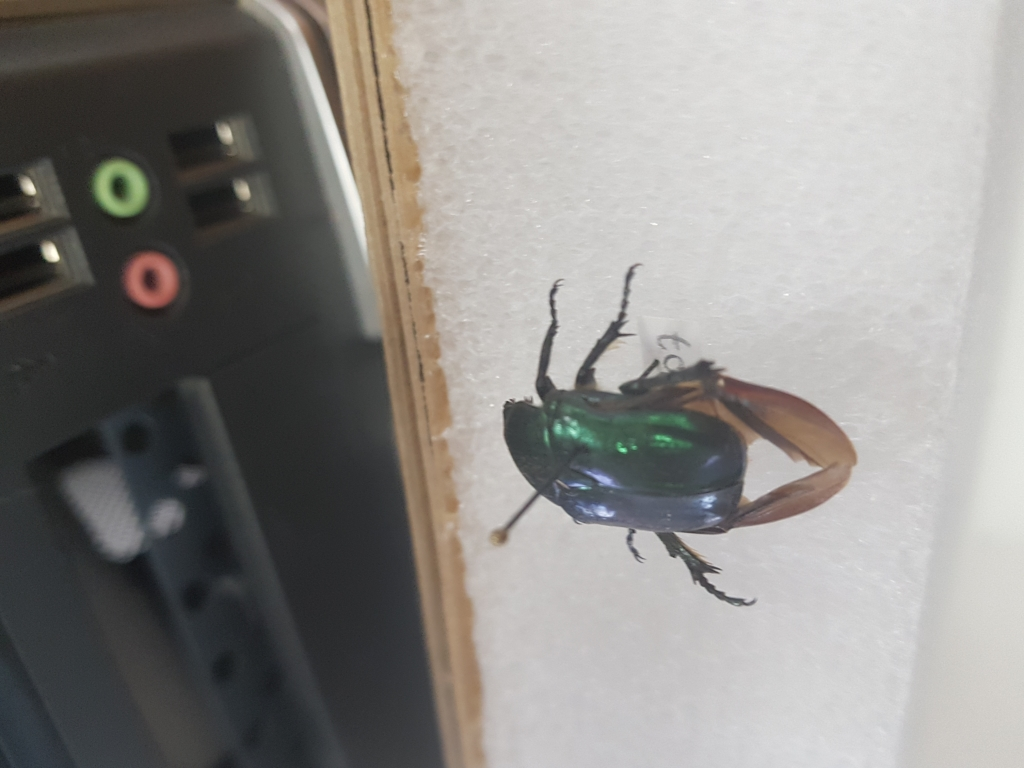Protaetia_angustata_angustata: (500, 262, 760, 611)
